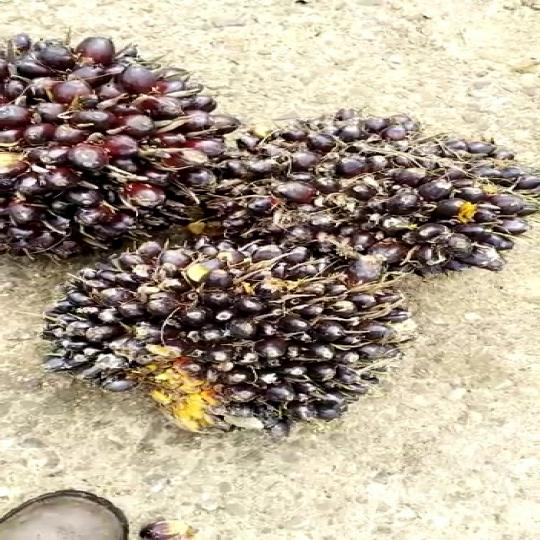mentah: (35, 243, 420, 446), (0, 41, 244, 234), (235, 113, 517, 278)
